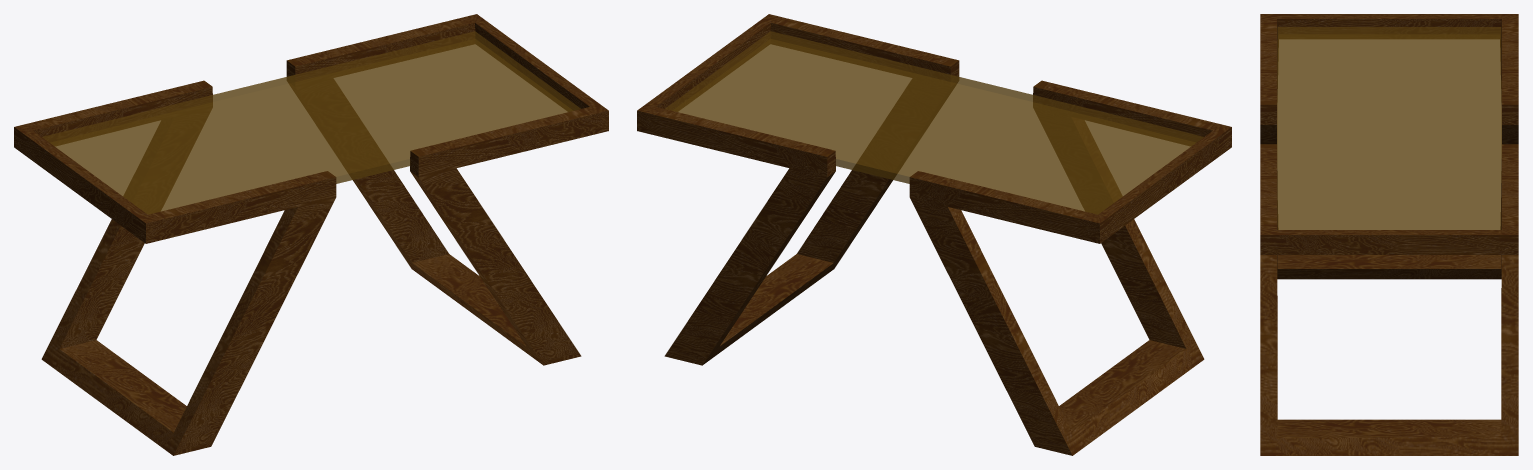
File: table3.glb
3 renders of one model, left to right at view 1: azimuth 30°, elevation 25°; view 2: azimuth 150°, elevation 25°; view 3: azimuth 270°, elevation 25°, orthographic. The views are drawn at different scales.
Parts seen in each view (by area): view 1: pCube2, pCube1, pCube4; view 2: pCube2, pCube1, pCube4; view 3: pCube2, pCube4, pCube1.
Part boxes in pixels (x1,y1,x2,y2): pCube2: (42,31,580,214); pCube1: (14,80,336,455); pCube4: (286,14,608,365); pCube2: (665,31,1203,214); pCube1: (909,80,1231,455); pCube4: (637,14,959,365); pCube2: (1277,27,1501,229); pCube4: (1260,144,1518,455); pCube1: (1260,14,1518,279).
Bounding box in the file's own units: 0.1365 × 0.0674 × 0.0674.
Materials: 2 (2 with a texture image).
